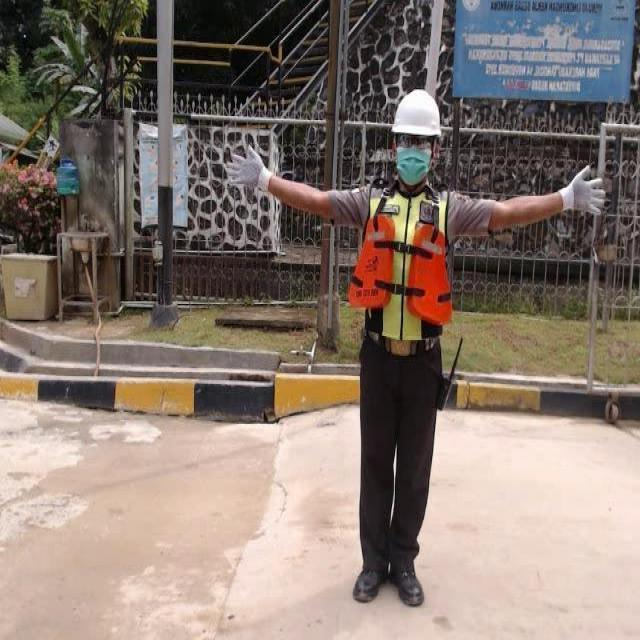gloves: (560, 163, 605, 218), (225, 146, 270, 190)
helmet: (391, 87, 444, 139)
safety_vest: (349, 184, 452, 352)
